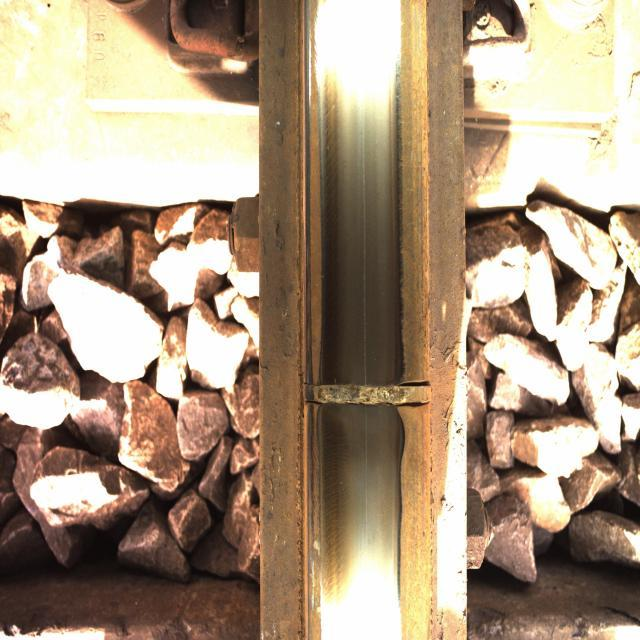spalling: (284, 335, 454, 457)
